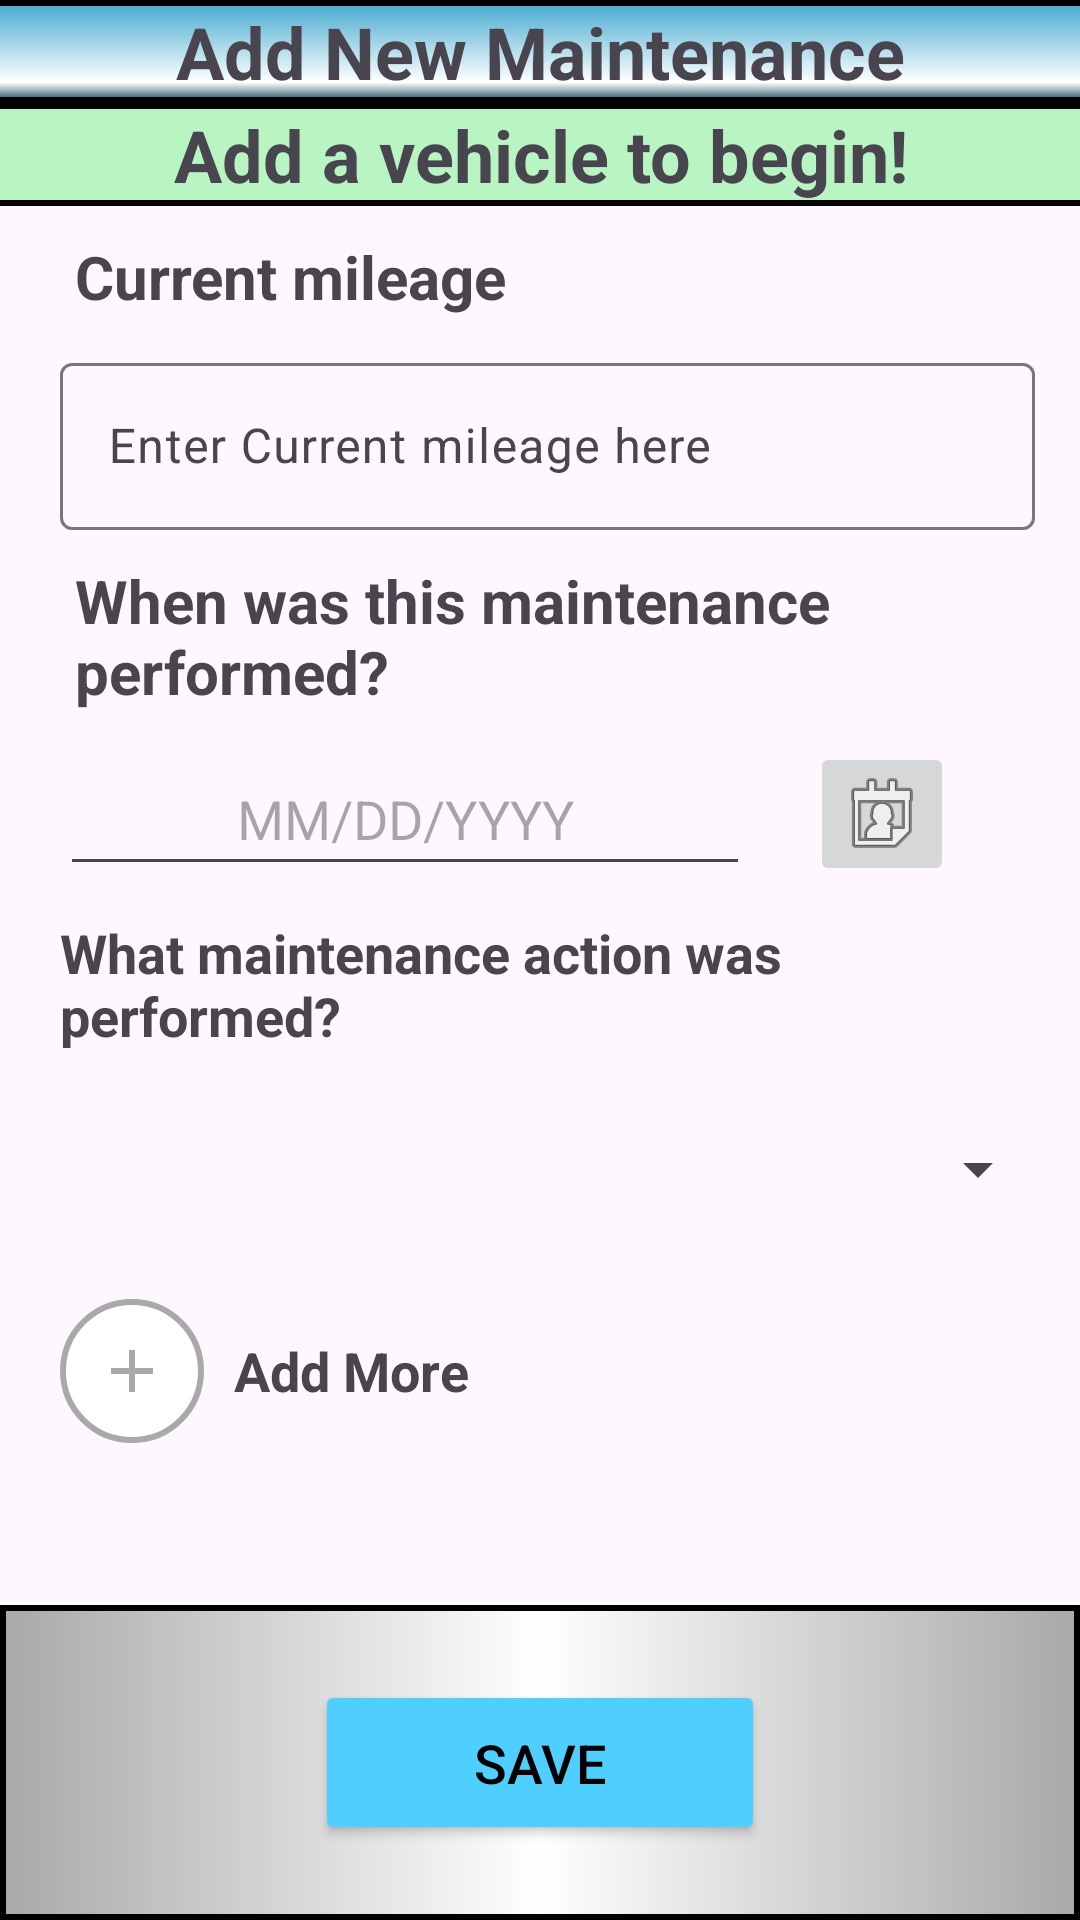

Named icons in this screenshot (1080*1920) and their bounding boxes, Rect(x1, y1, x2, y2):
Calendar button: Rect(822, 760, 942, 868)
